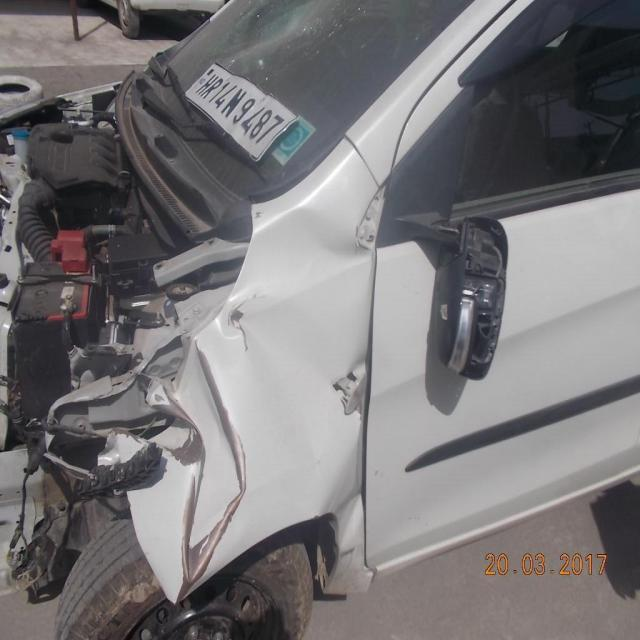damaged: (1, 63, 369, 640)
